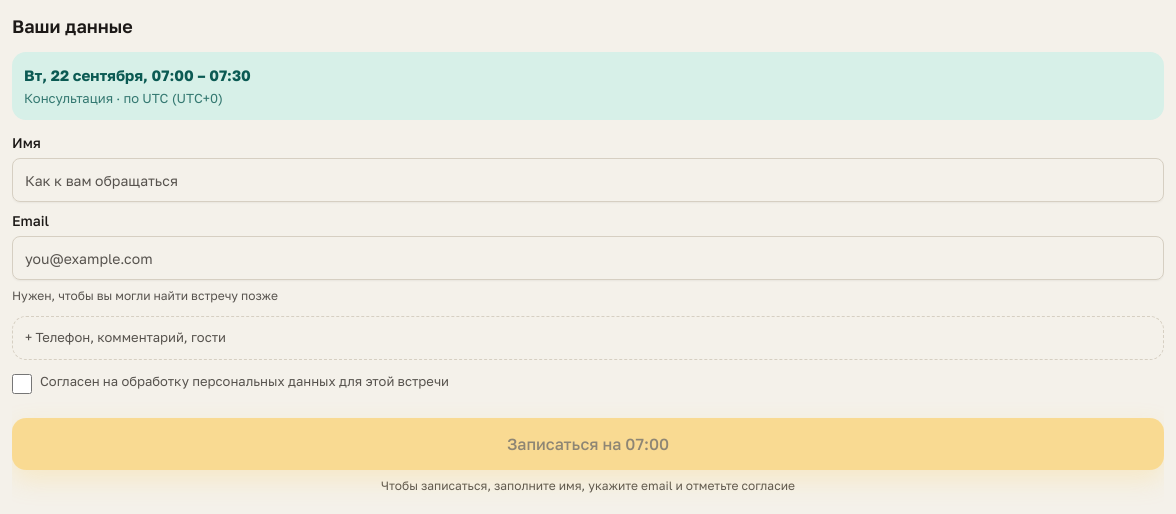
Test: BookingForm › показывает ошибку, если в email нет домена
Step 1. Type "Иван" into the field labelled "Имя" → [588, 180], box 12,158 -> 1164,202
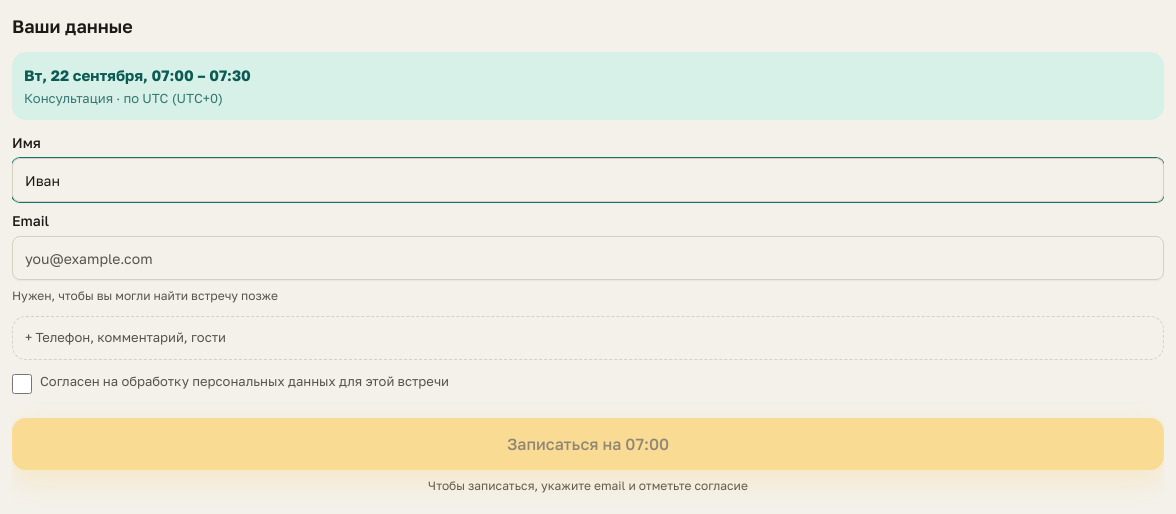
Step 2. Type "ivan@example" into the field labelled "Email" → [588, 258], box 12,236 -> 1164,280
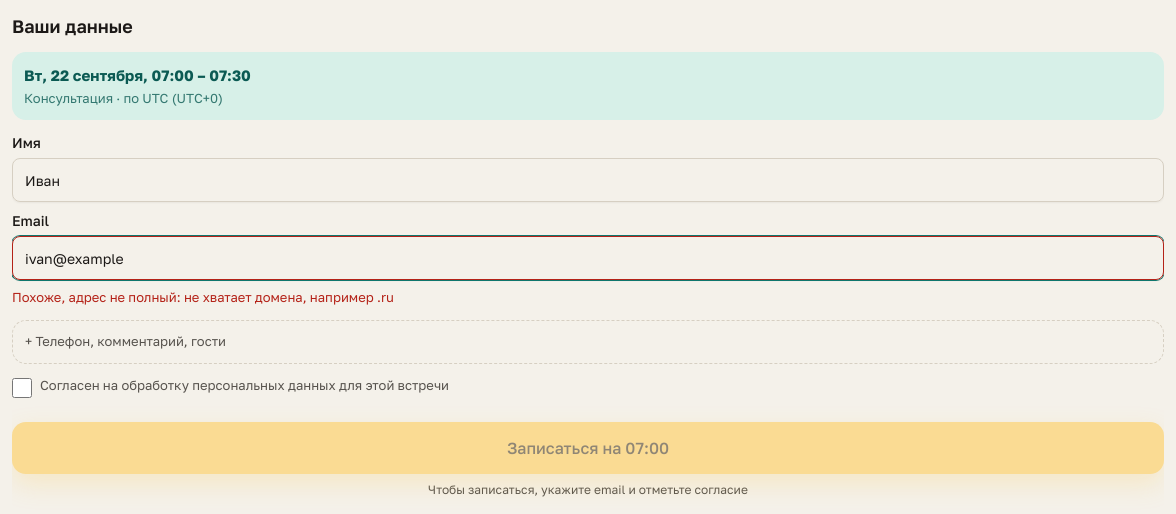
Now the text "Похоже, адрес не полный: не хватает домена, например .ru" is shown, box 12,289 -> 394,305
